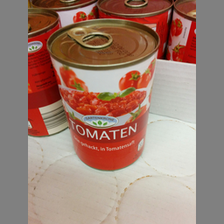tomato_sauce: (45, 19, 160, 172)
